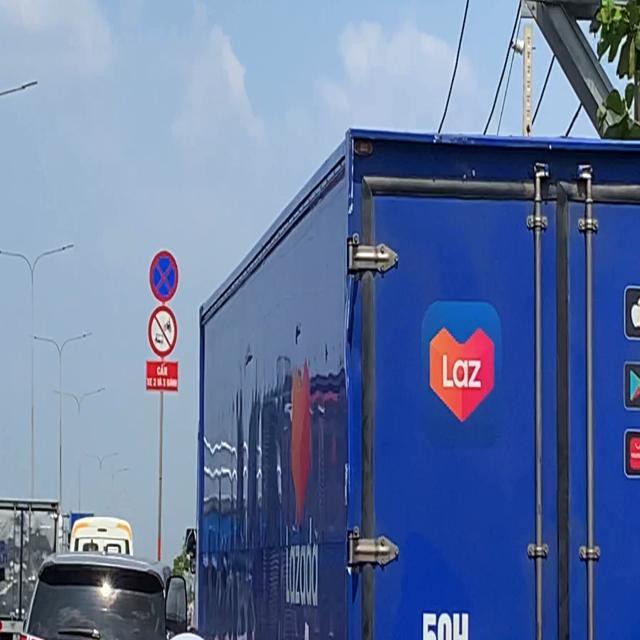Cam con lai: (148, 305, 177, 359)
Cam dung va do: (149, 250, 179, 302)
